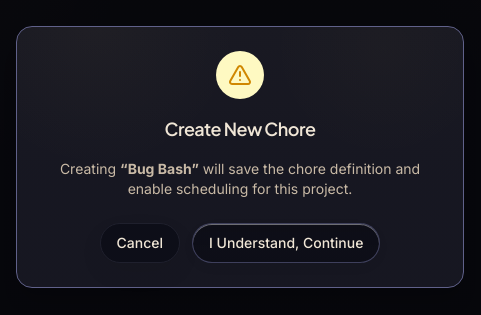
Scenario: AddChoreModal › submits form with valid data
Earlier steps of the test are not shown.
Later steps or results of the test are not shown.
Click the button "I Understand, Continue" at point(286, 243), box [192, 223, 380, 263]
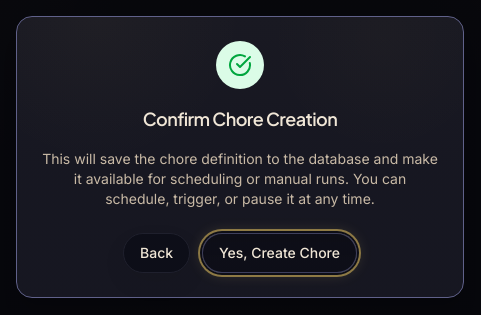
Expected: the button "Yes, Create Chore" is shown, [202, 233, 357, 273]
